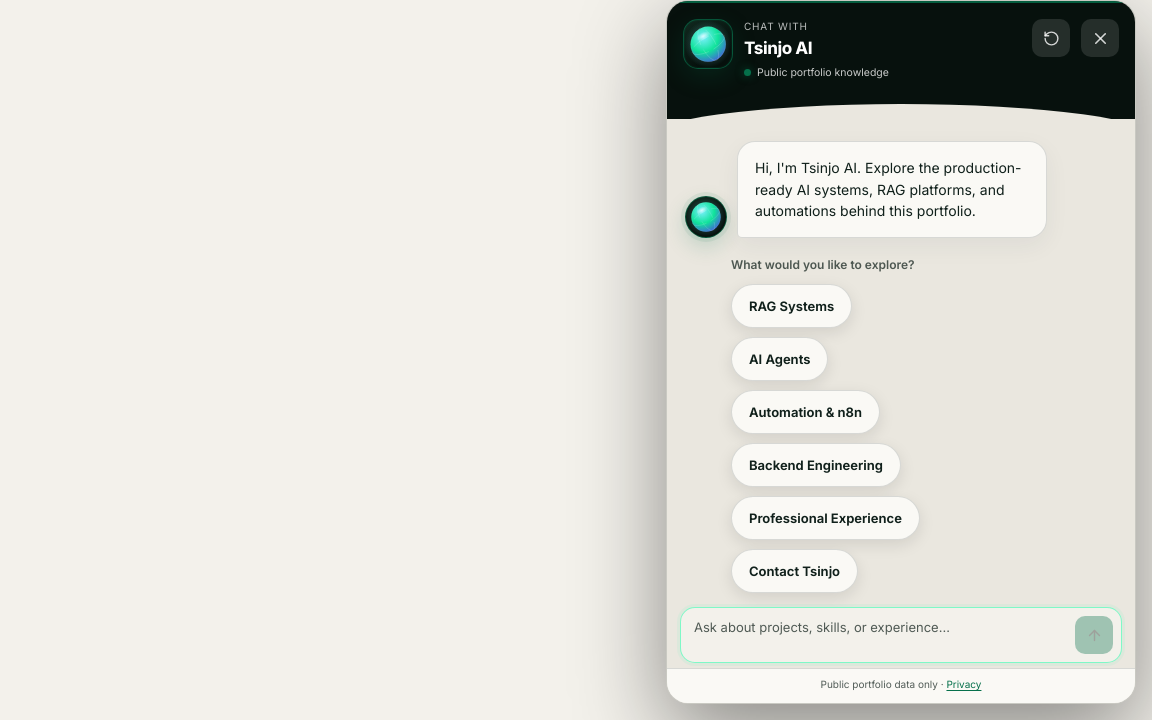
PortfolioAssistant language of the conversation › answers in French, with French labels, to a French question on the English site
Type "salut comment ca va" into the text box named "Message Tsinjo AI".
click(880, 636); type("salut comment ca va")  # box [694,618,1067,654]
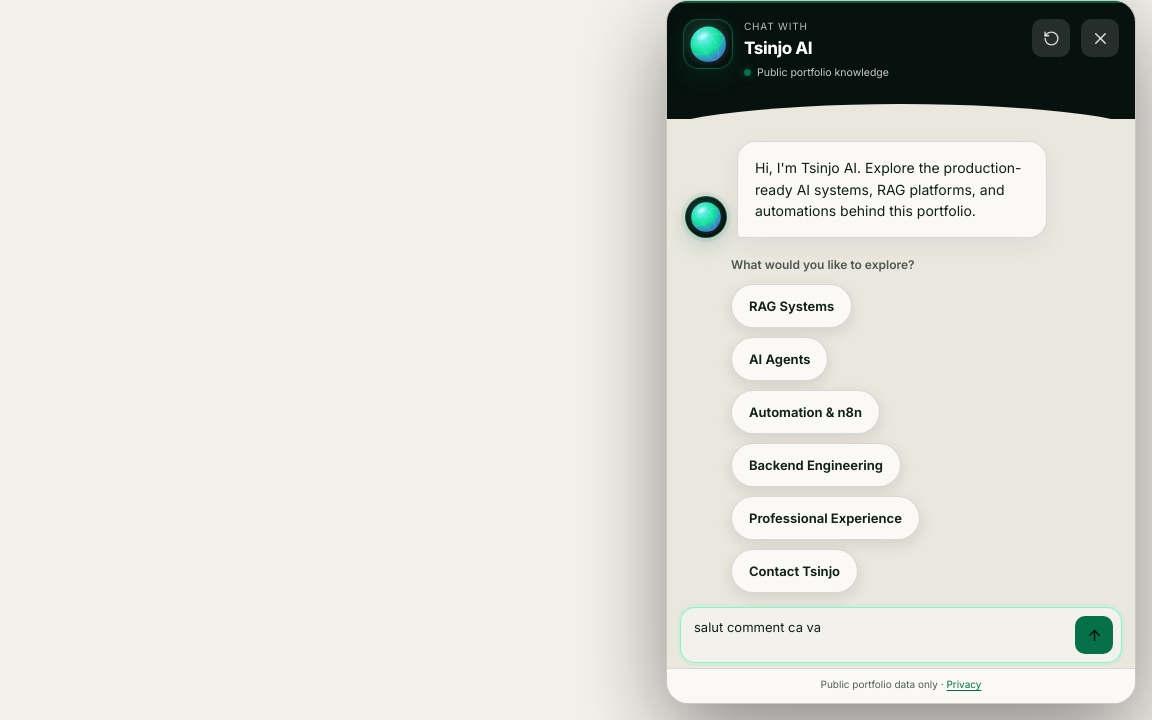
Click the button named "Send message".
click(1094, 635)  # box [1075,616,1113,654]
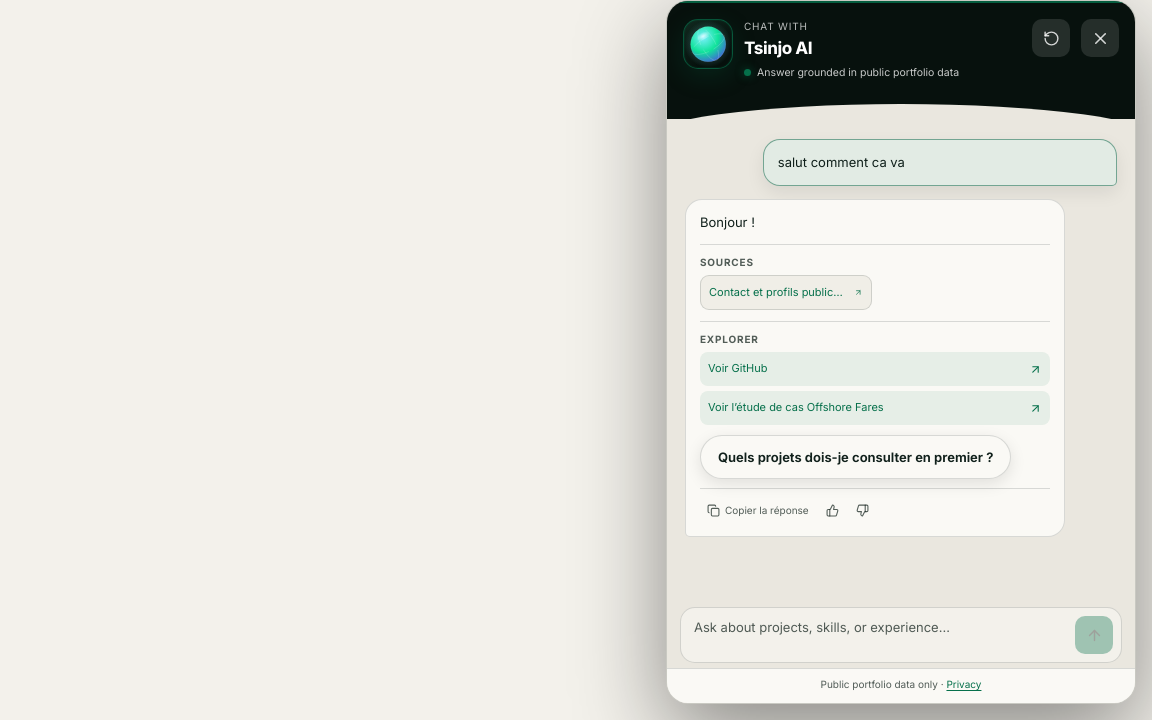
expect the text "Bonjour !" is shown: met, box [700,214,755,230]
expect the link "Contact et profils publics · Liens publics" is shown: met, box [700,275,872,310]
expect the link "Voir GitHub" is shown: met, box [700,352,1050,386]
